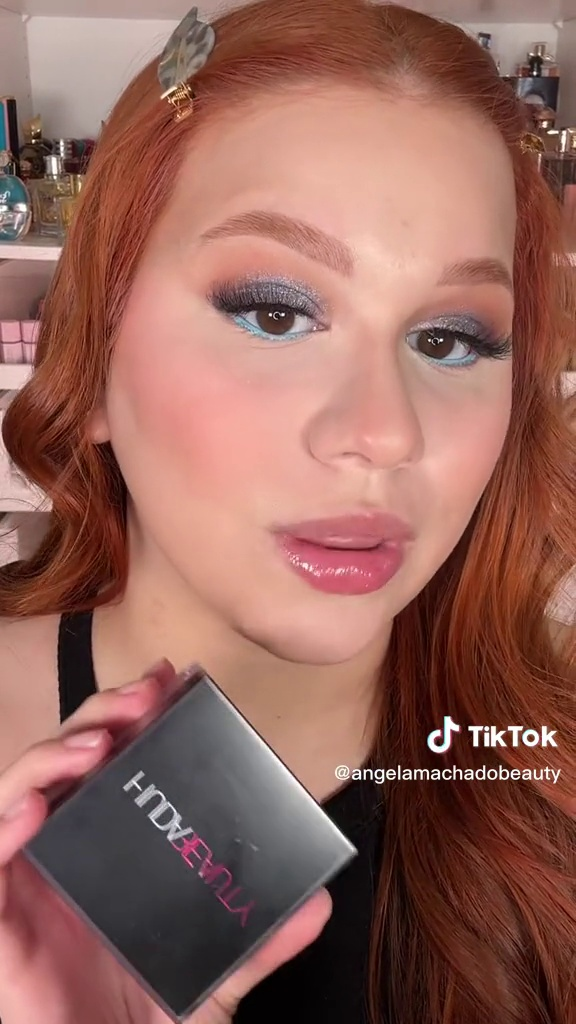train' :'yolo_data/train/images',: (10, 651, 366, 1023)
